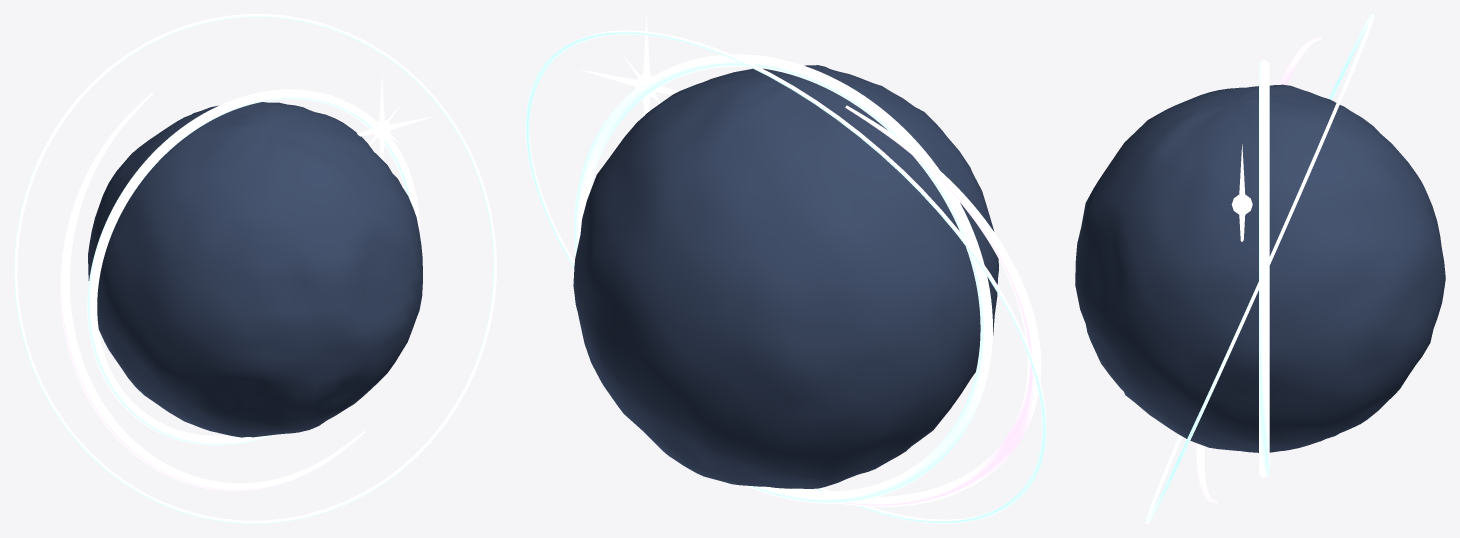
Rendered from eclipse.glb.
The picture shows the model from 3 angles, left to right: view 1: azimuth 30°, elevation 25°; view 2: azimuth 150°, elevation 25°; view 3: azimuth 270°, elevation 25°; orthographic projection. The views are drawn at different scales.
Parts seen in each view (by area): view 1: Eclipse_Moon, Eclipse_Corona_Ring, Eclipse_Astrolabe_Ring, Eclipse_Purple_Arc, Eclipse_Diamond_Flare; view 2: Eclipse_Moon, Eclipse_Corona_Ring, Eclipse_Purple_Arc, Eclipse_Astrolabe_Ring, Eclipse_Diamond_Flare; view 3: Eclipse_Moon, Eclipse_Corona_Ring, Eclipse_Astrolabe_Ring, Eclipse_Purple_Arc, Eclipse_Diamond_Flare.
Part boxes in pixels (x1=…): Eclipse_Moon: x1=88, y1=102, x2=422, y2=437; Eclipse_Corona_Ring: x1=87, y1=89, x2=419, y2=445; Eclipse_Astrolabe_Ring: x1=14, y1=14, x2=496, y2=523; Eclipse_Purple_Arc: x1=60, y1=92, x2=365, y2=491; Eclipse_Diamond_Flare: x1=357, y1=74, x2=434, y2=160; Eclipse_Moon: x1=573, y1=65, x2=998, y2=488; Eclipse_Corona_Ring: x1=574, y1=54, x2=992, y2=503; Eclipse_Purple_Arc: x1=800, y1=105, x2=1041, y2=507; Eclipse_Astrolabe_Ring: x1=525, y1=30, x2=1046, y2=523; Eclipse_Diamond_Flare: x1=579, y1=17, x2=678, y2=115; Eclipse_Moon: x1=1075, y1=84, x2=1445, y2=452; Eclipse_Corona_Ring: x1=1259, y1=60, x2=1269, y2=477; Eclipse_Astrolabe_Ring: x1=1145, y1=14, x2=1374, y2=523; Eclipse_Purple_Arc: x1=1196, y1=37, x2=1321, y2=503; Eclipse_Diamond_Flare: x1=1231, y1=144, x2=1252, y2=241.
Bounding box in the file's own units: 2.51 × 2.35 × 1.69.
